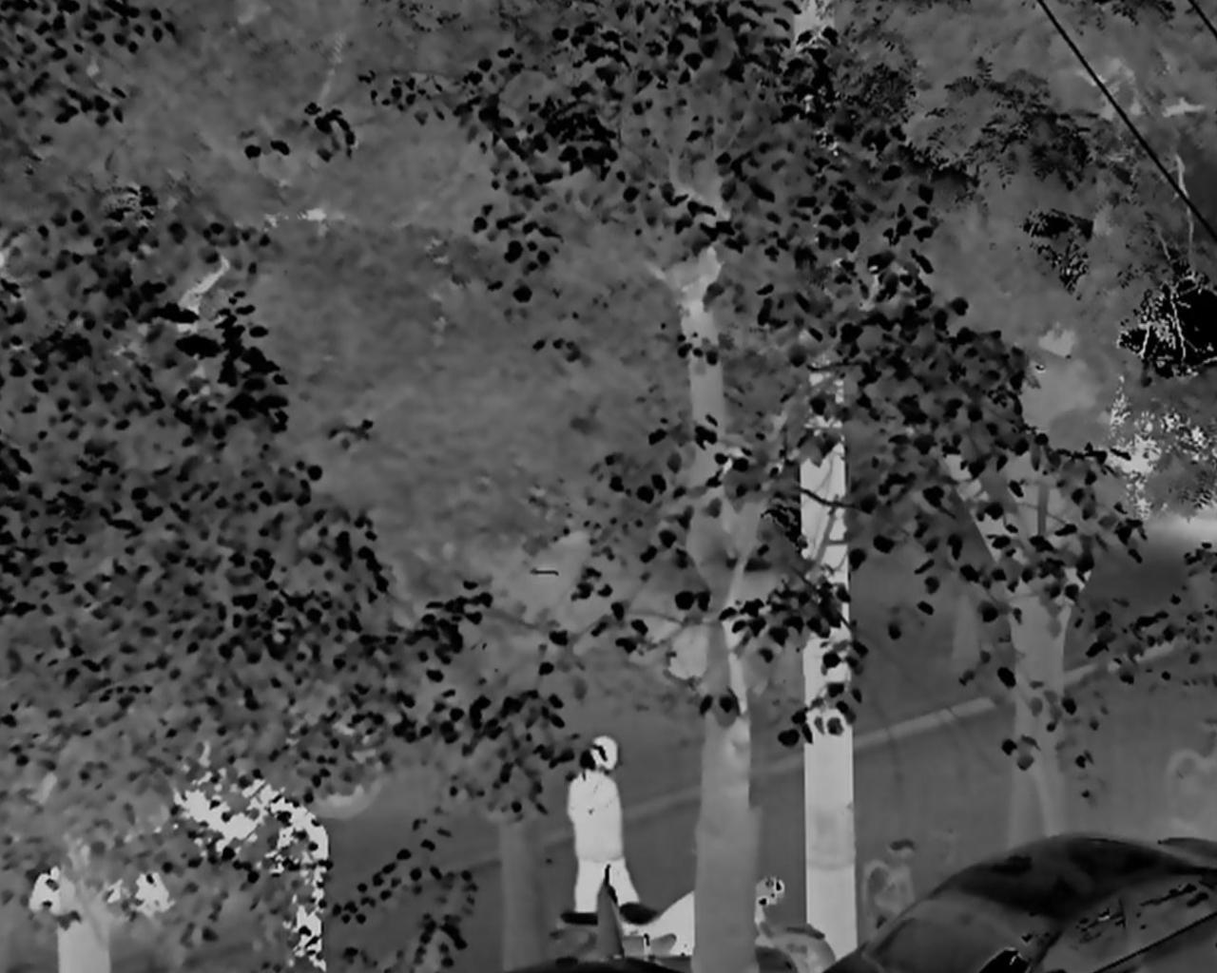person: (570, 733, 640, 924), (269, 793, 331, 973)
